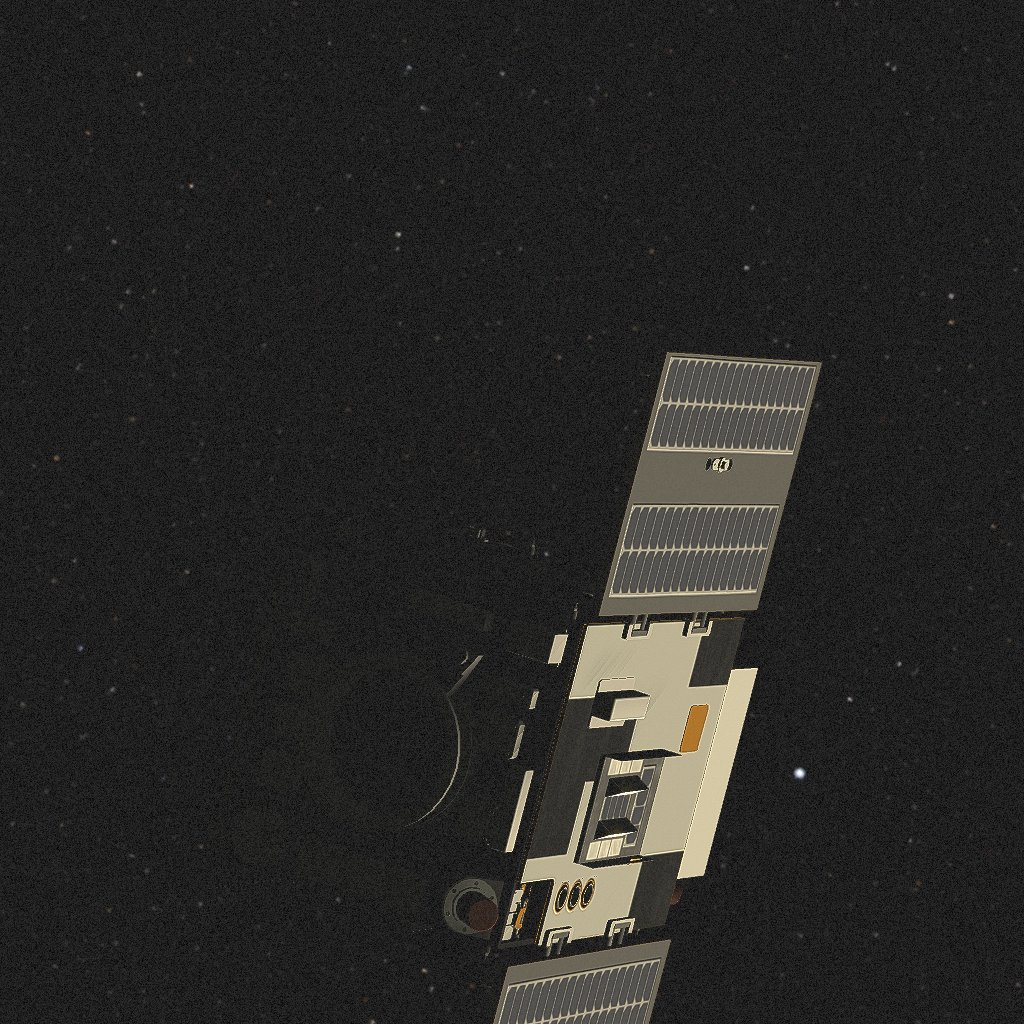proba_2: (200, 349, 822, 1024)
